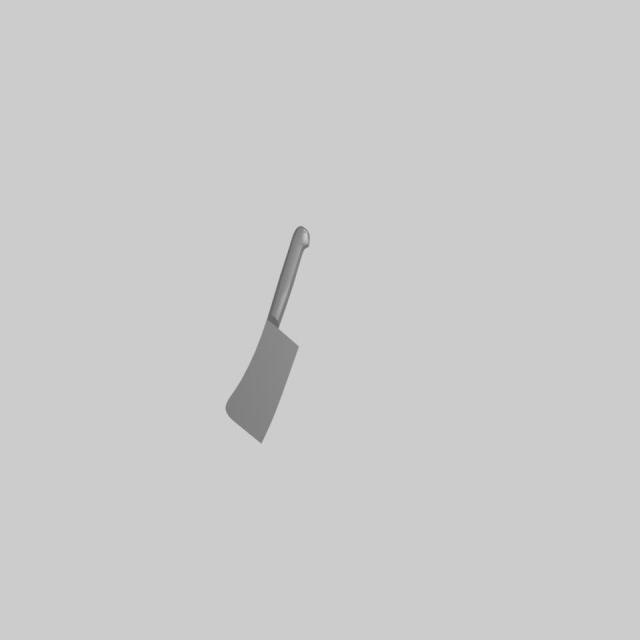knife: (267, 226, 310, 328)
